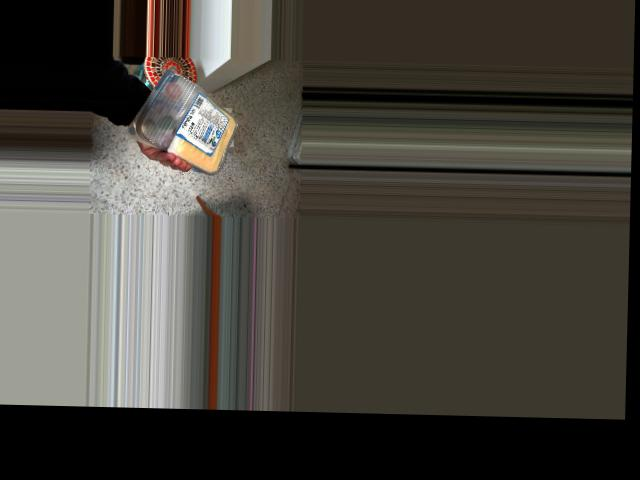cheese: (153, 62, 242, 168)
